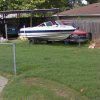Boat: (17, 18, 76, 50)
